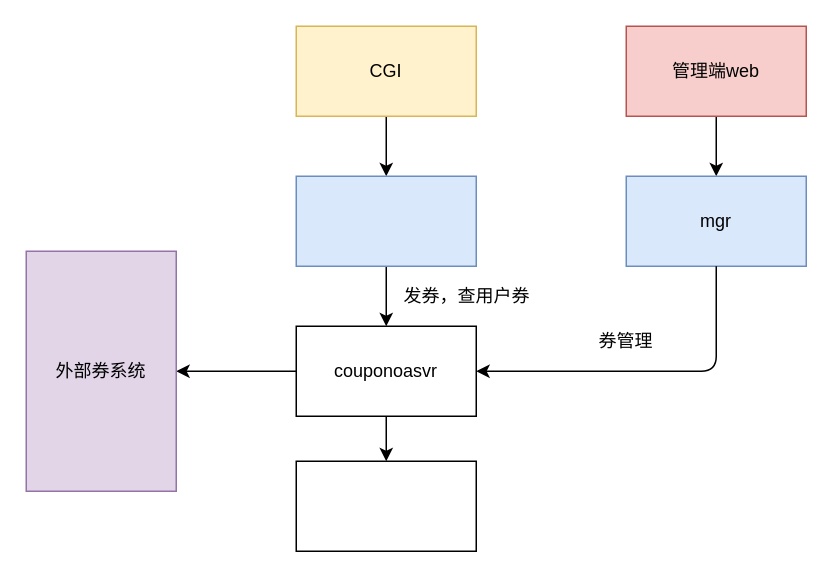
Some shapes in this 833 by 578 pixel diagram are drawn without their labels. Here are the shapes that lost their labels. From the top down, the centre of each, then its label:
the point at 385,220: awardsvr
the point at 385,505: couponkvsvr
